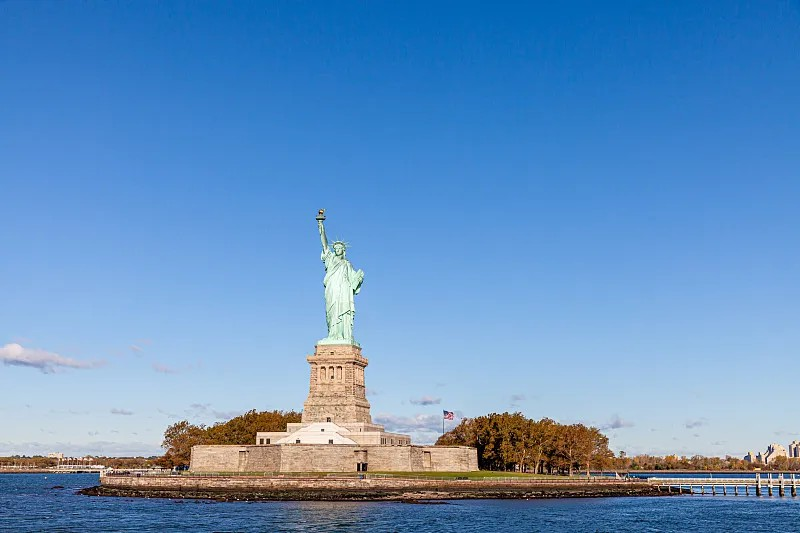SL: (301, 208, 372, 423)
